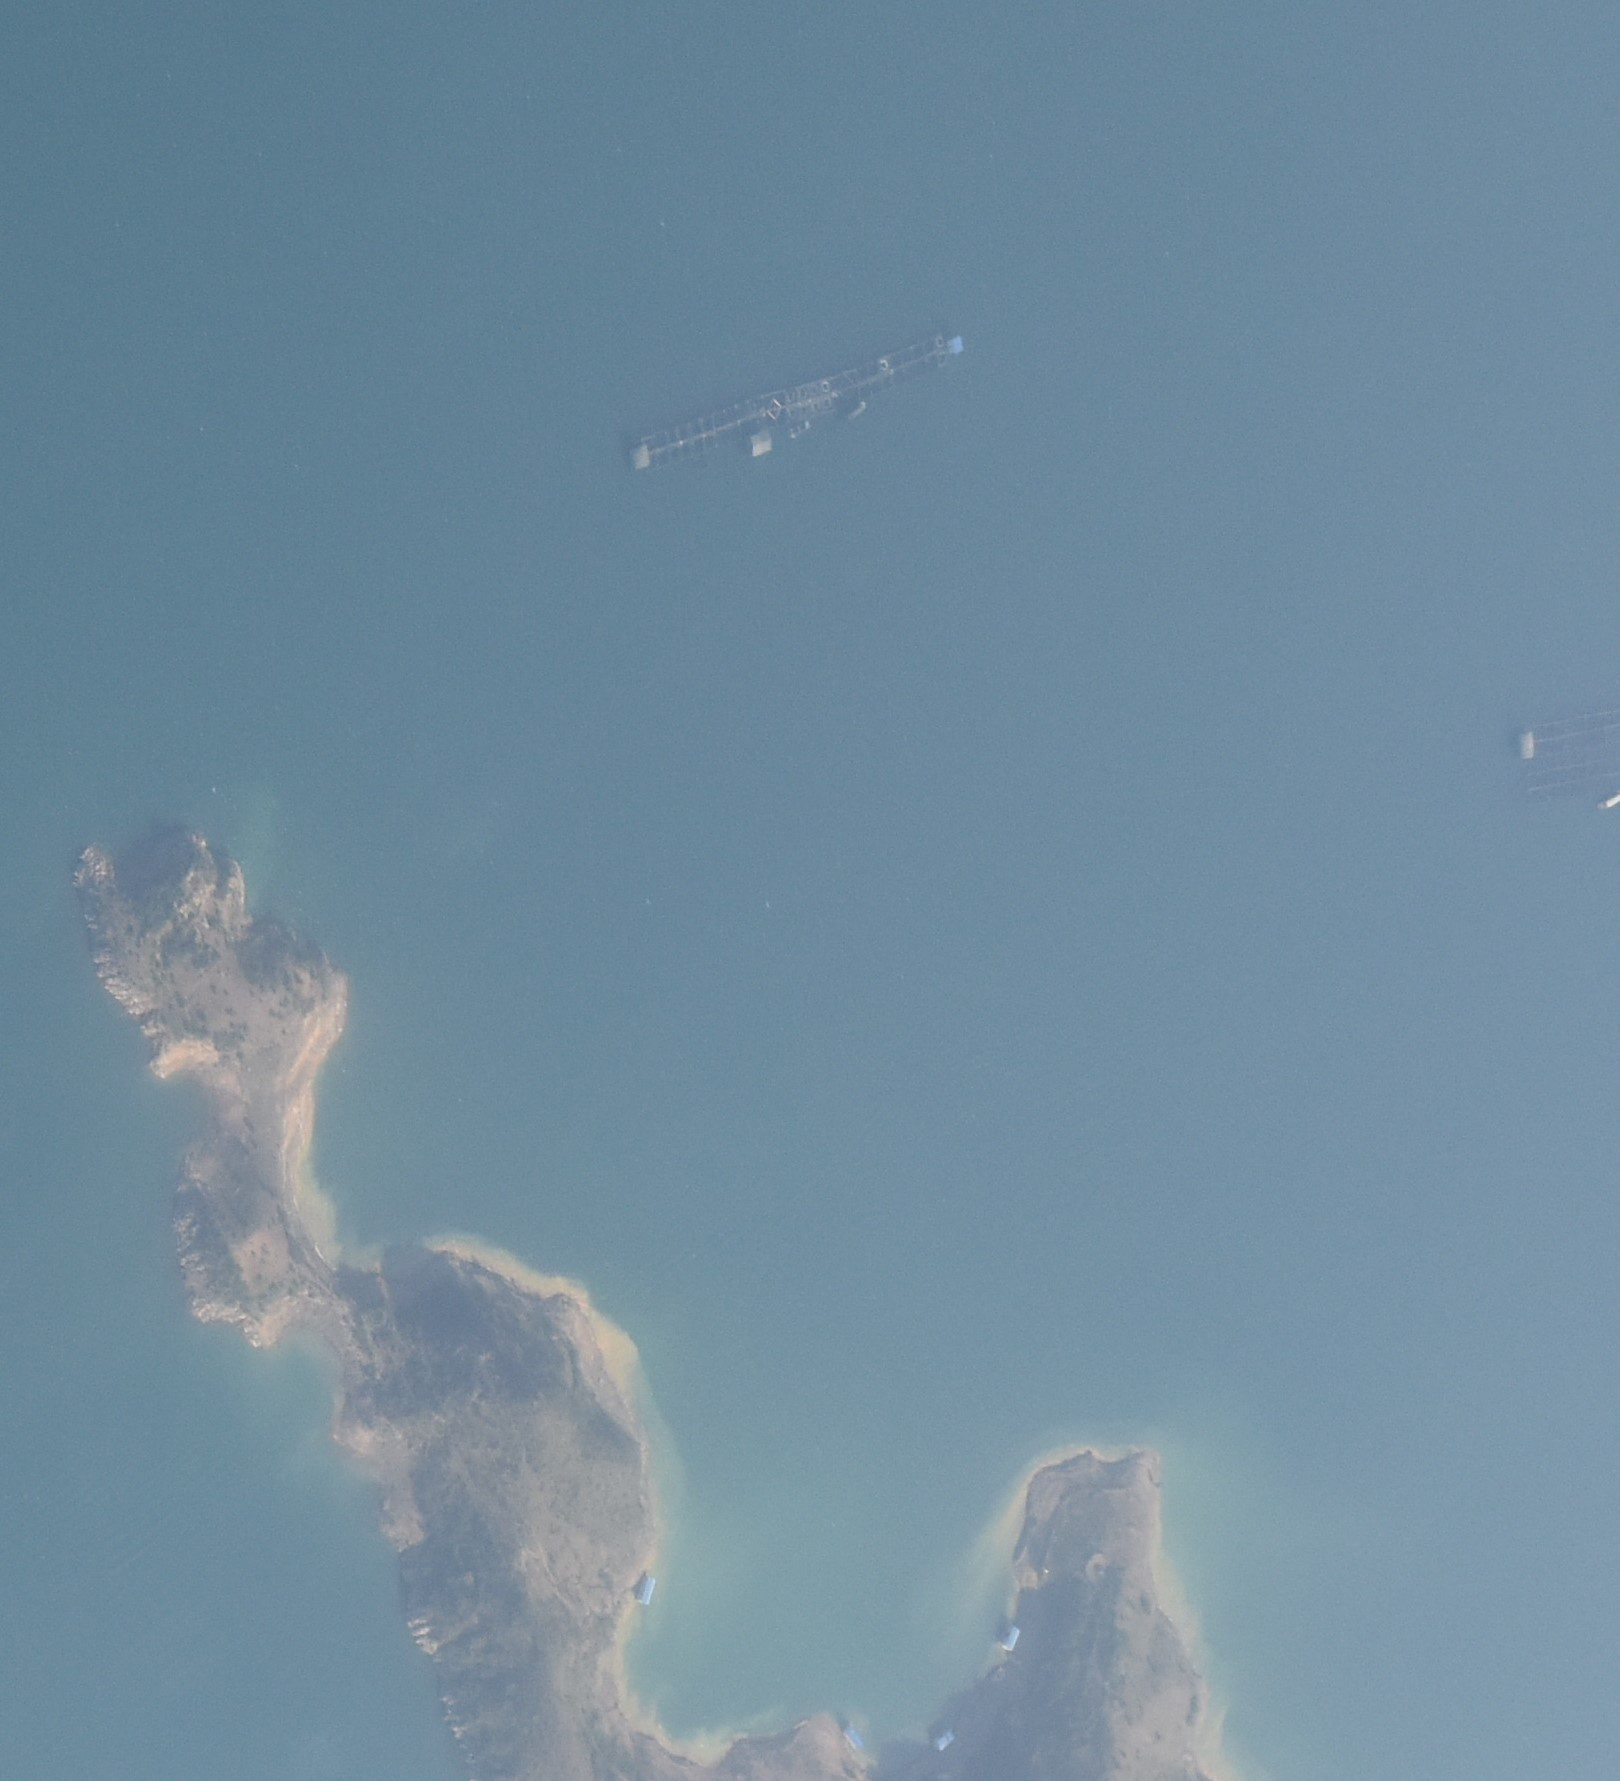cultivation-mesh-cage: (794, 331, 950, 430), (637, 386, 794, 473), (1522, 695, 1620, 817)
prefabricated-house: (749, 429, 773, 456), (999, 1623, 1020, 1652), (637, 1573, 656, 1603), (845, 1720, 863, 1751), (632, 444, 650, 472), (934, 1731, 956, 1753), (1521, 731, 1535, 759), (949, 334, 965, 357)
ship: (842, 401, 866, 425), (1598, 788, 1619, 813)
